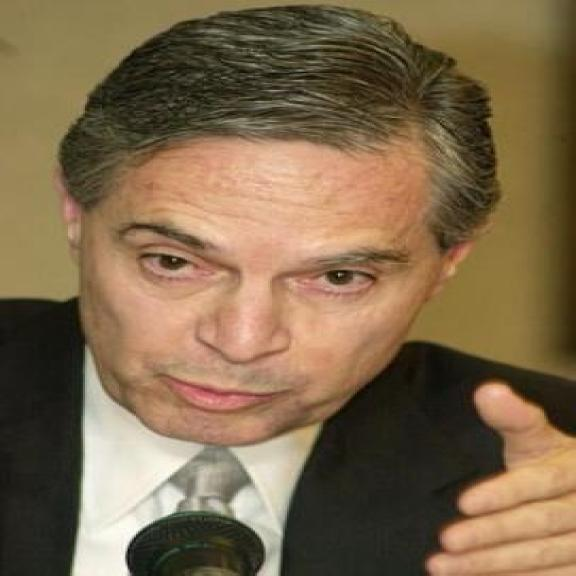face: (54, 124, 491, 450)
